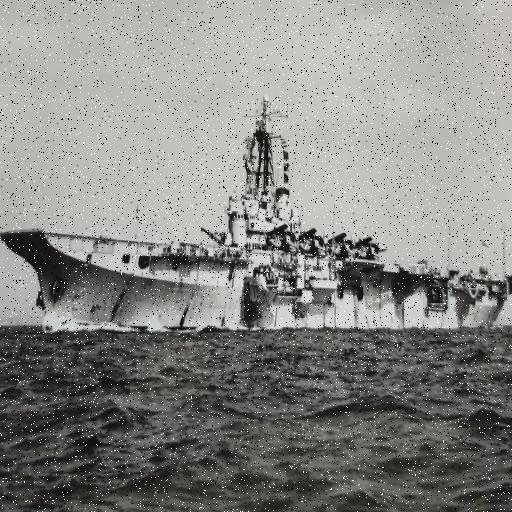Portanaves: (3, 84, 512, 340)
